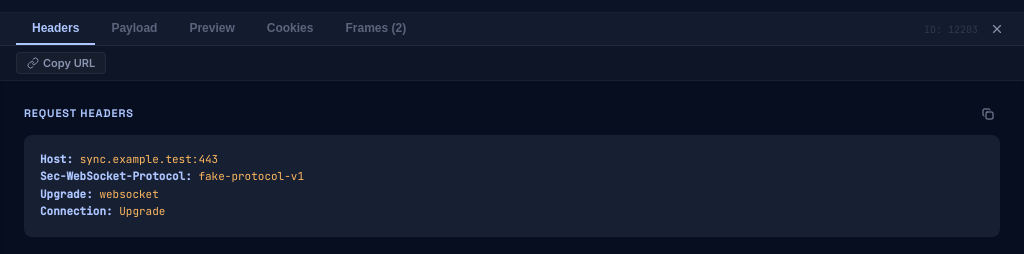
TrafficDetailPanel — WebSocket protocol decoding › decodes frames via a registered plugin decoder instead of showing raw base64
// Switch to the Frames tab
Click the button "Frames (2)" at (376, 29), box top-left (330, 13), bottom-right (422, 45)
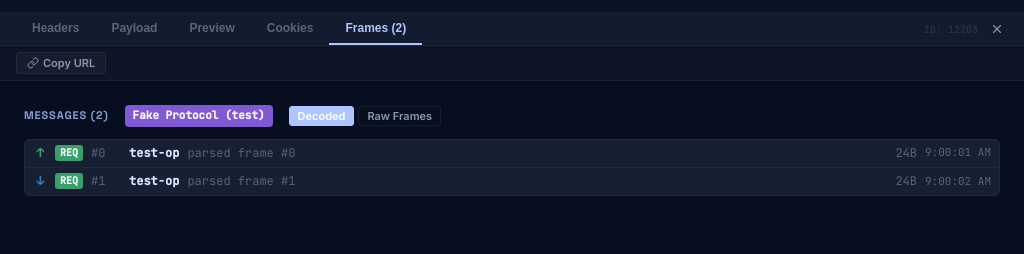
Expected: the text "Fake Protocol (test)" is shown, top-left (125, 105), bottom-right (273, 127)
Expected: the text "parsed frame #0" is shown, top-left (187, 145), bottom-right (295, 161)
Expected: the text "parsed frame #1" is shown, top-left (187, 173), bottom-right (295, 189)
